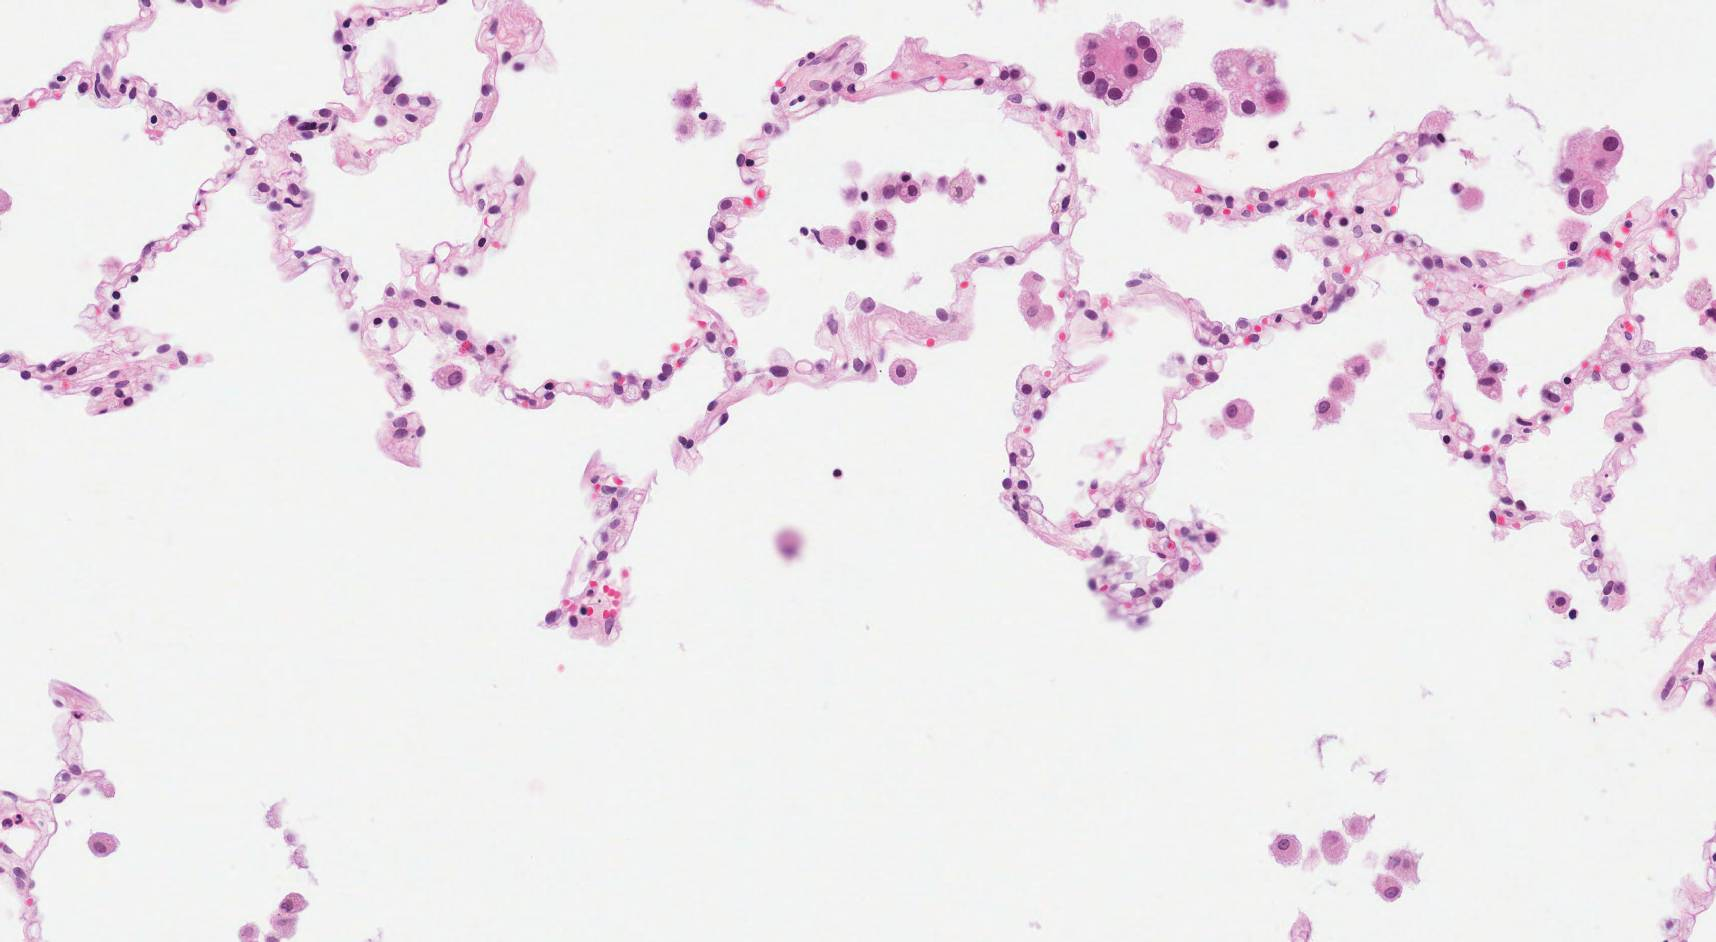stas: (1079, 23, 1162, 107), (1554, 125, 1621, 216), (1212, 47, 1294, 115), (1155, 82, 1229, 154)
